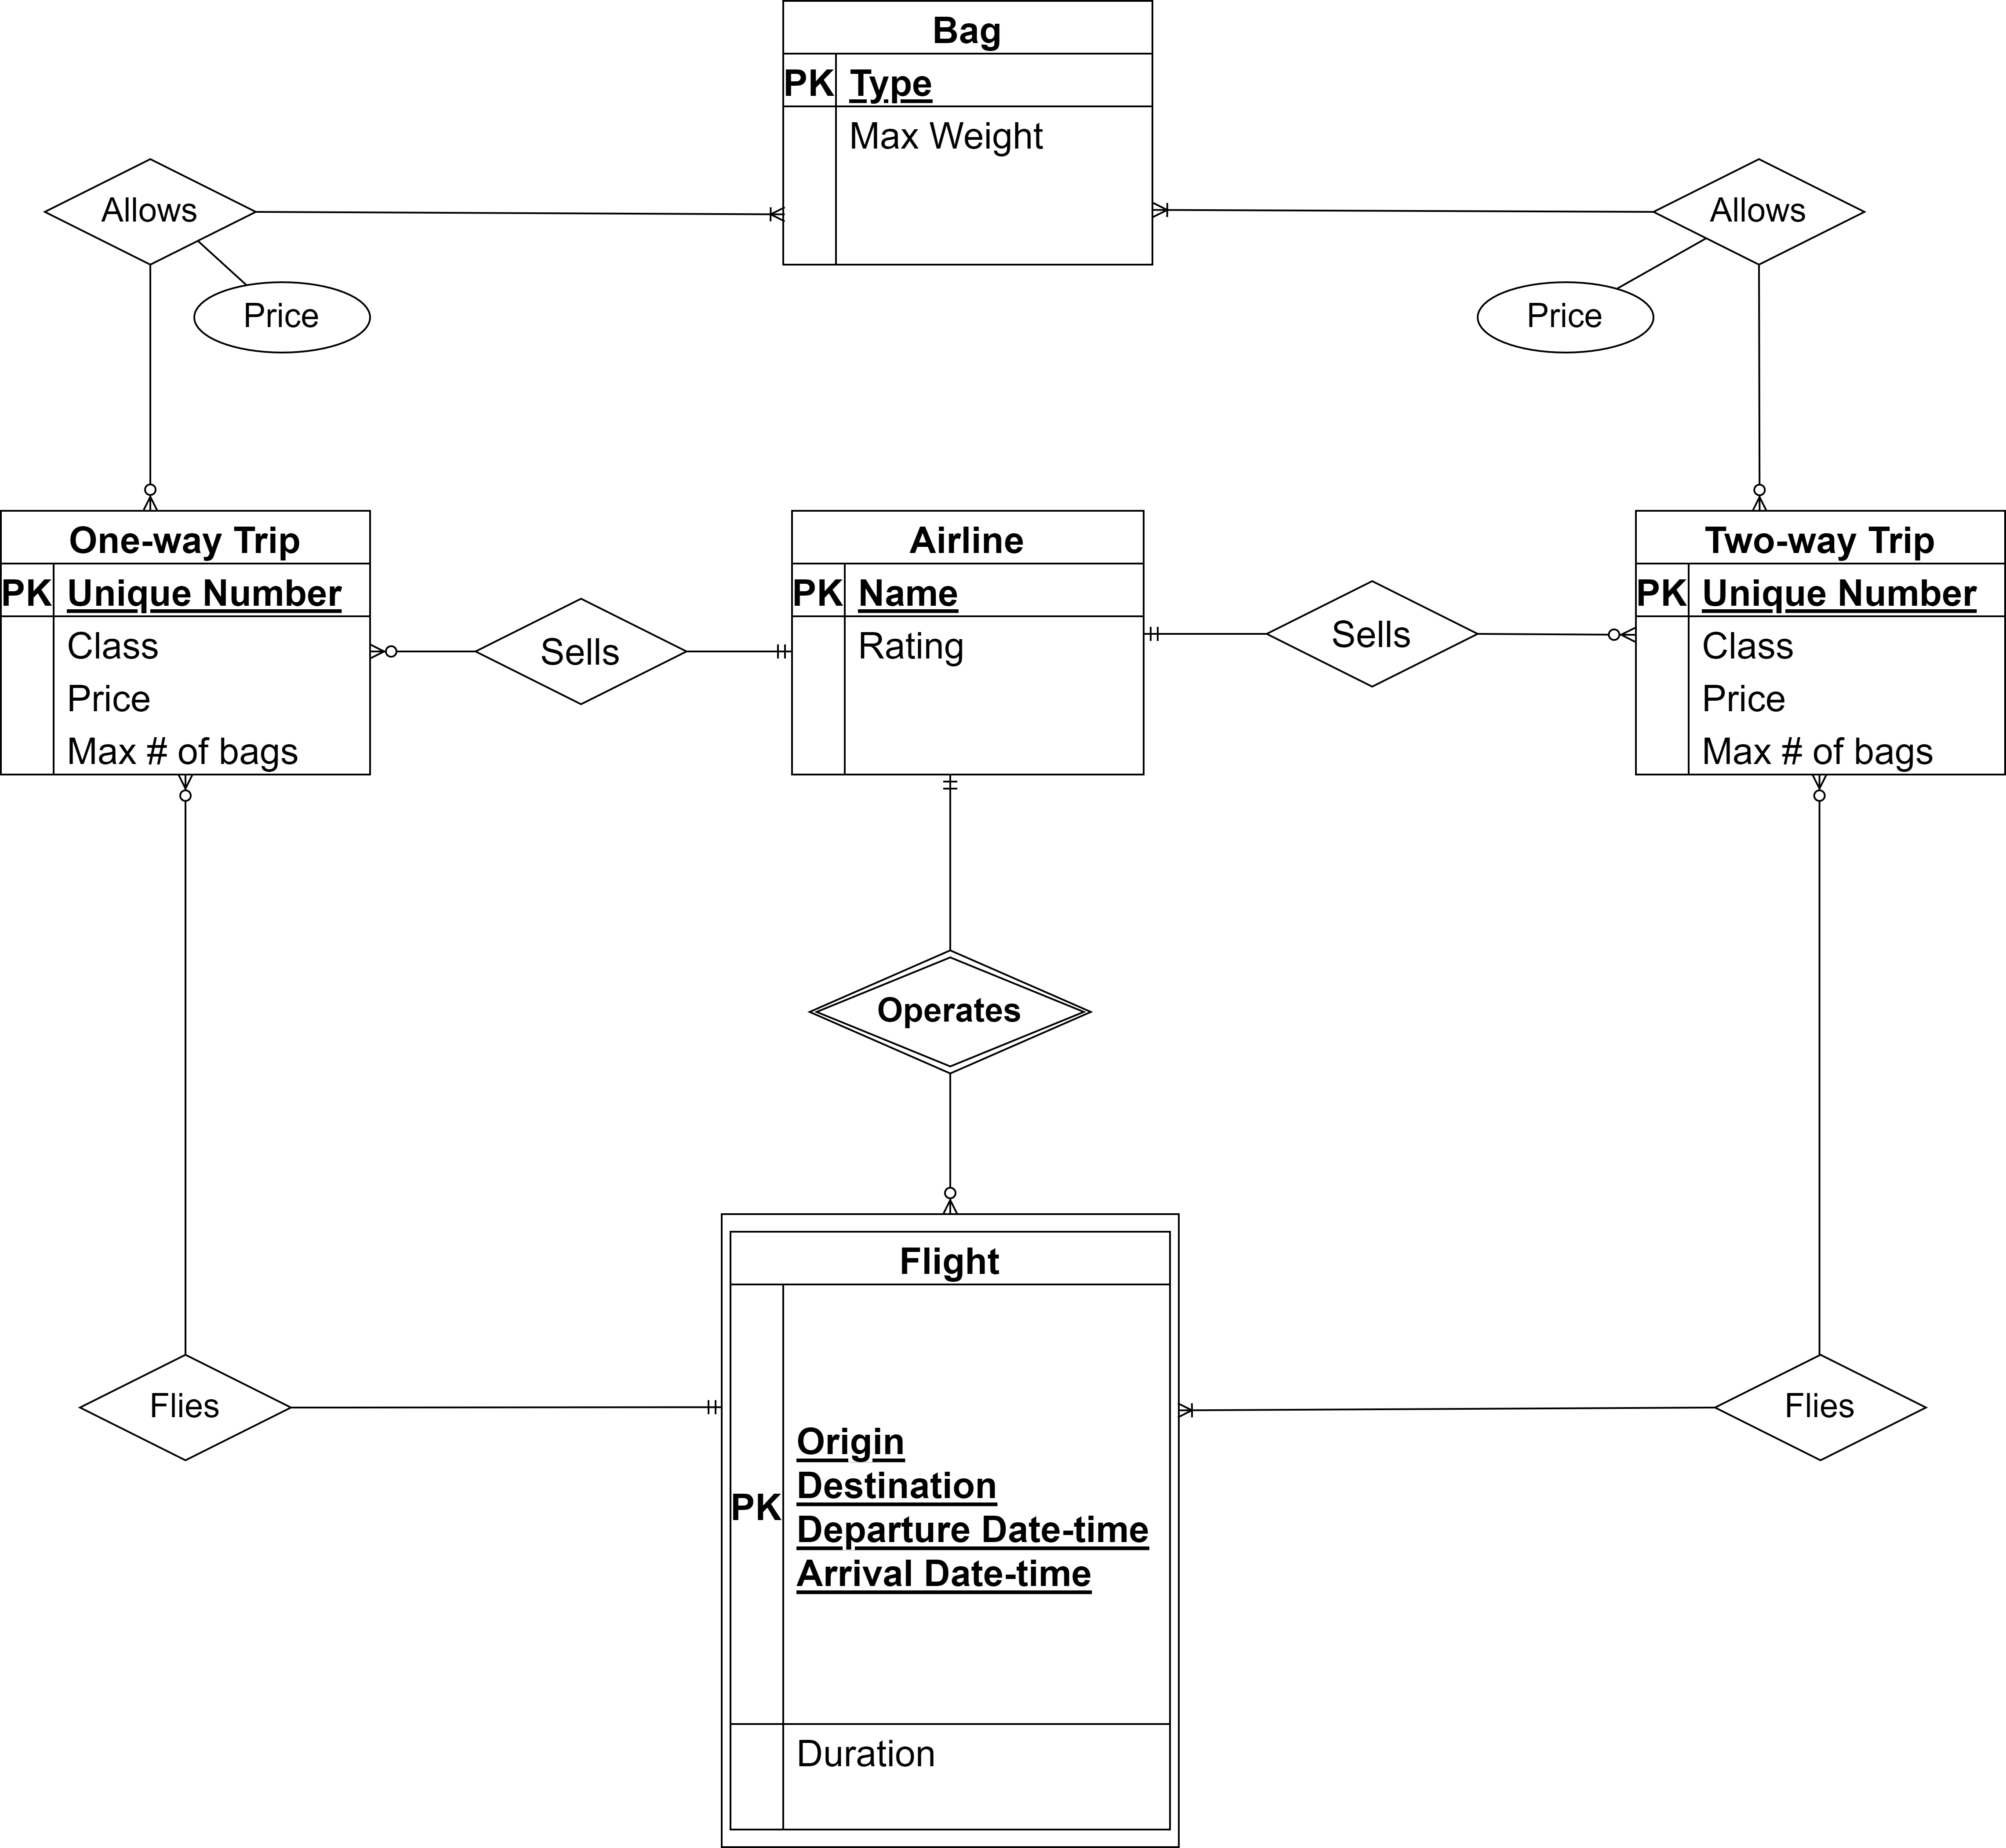entity: (786, 505, 1152, 782), (1632, 514, 2006, 778), (0, 511, 374, 768), (785, 0, 1150, 262)
ident_rel: (806, 946, 1092, 1077)
many: (916, 1166, 991, 1217), (1145, 184, 1206, 243), (150, 775, 225, 815), (732, 187, 783, 240), (1585, 612, 1636, 663), (1793, 769, 1852, 811), (1733, 465, 1789, 507), (121, 472, 183, 509), (1179, 1386, 1225, 1437), (370, 626, 411, 682)
one: (671, 1376, 725, 1432), (751, 619, 792, 684), (921, 775, 982, 813), (1150, 608, 1186, 668)
rel: (474, 593, 687, 710), (1651, 157, 1875, 267), (77, 1348, 294, 1462), (44, 156, 262, 267), (1712, 1355, 1929, 1465), (1269, 580, 1482, 689)
rel_attr: (1475, 280, 1658, 357), (187, 281, 377, 348)
weak_entity: (718, 1205, 1185, 1848)
